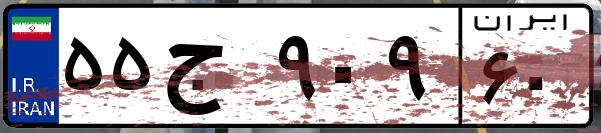0: (330, 28, 385, 110), (525, 38, 570, 115)
5: (57, 26, 110, 100), (110, 28, 158, 98)
6: (475, 38, 525, 113)
9: (270, 28, 330, 110), (385, 28, 445, 110)
ج: (158, 20, 270, 120)
